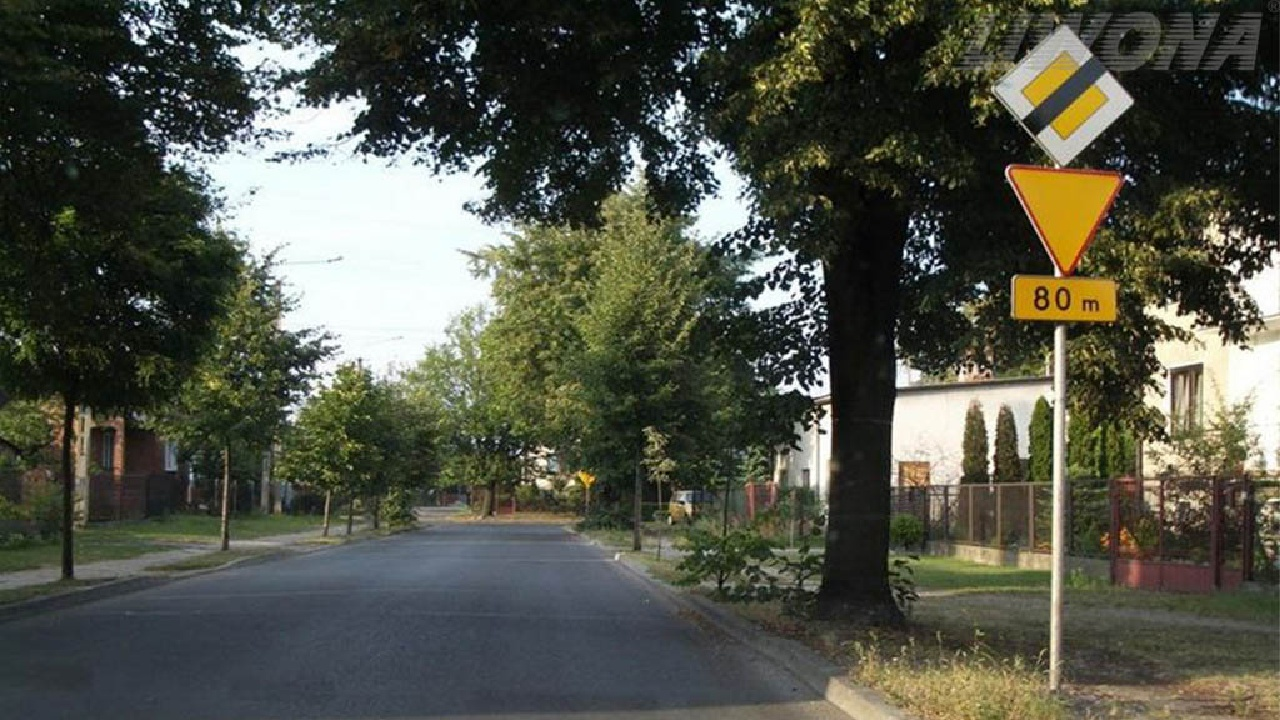A7: (1005, 164, 1127, 274)
D2: (990, 26, 1133, 165)
